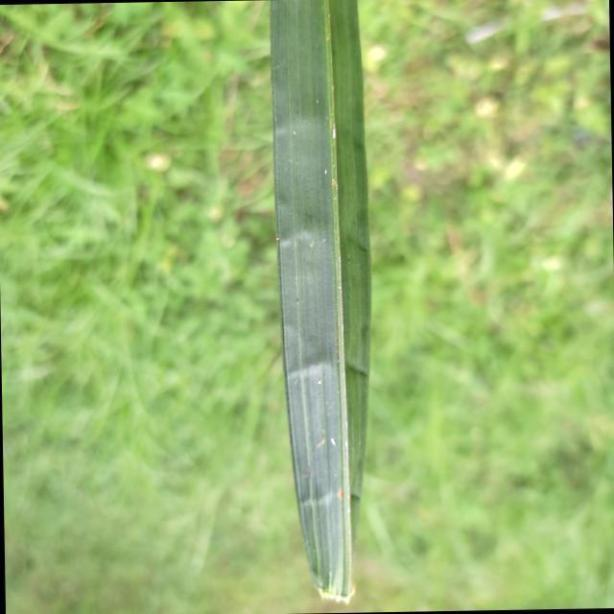Boron: (270, 0, 367, 604)
